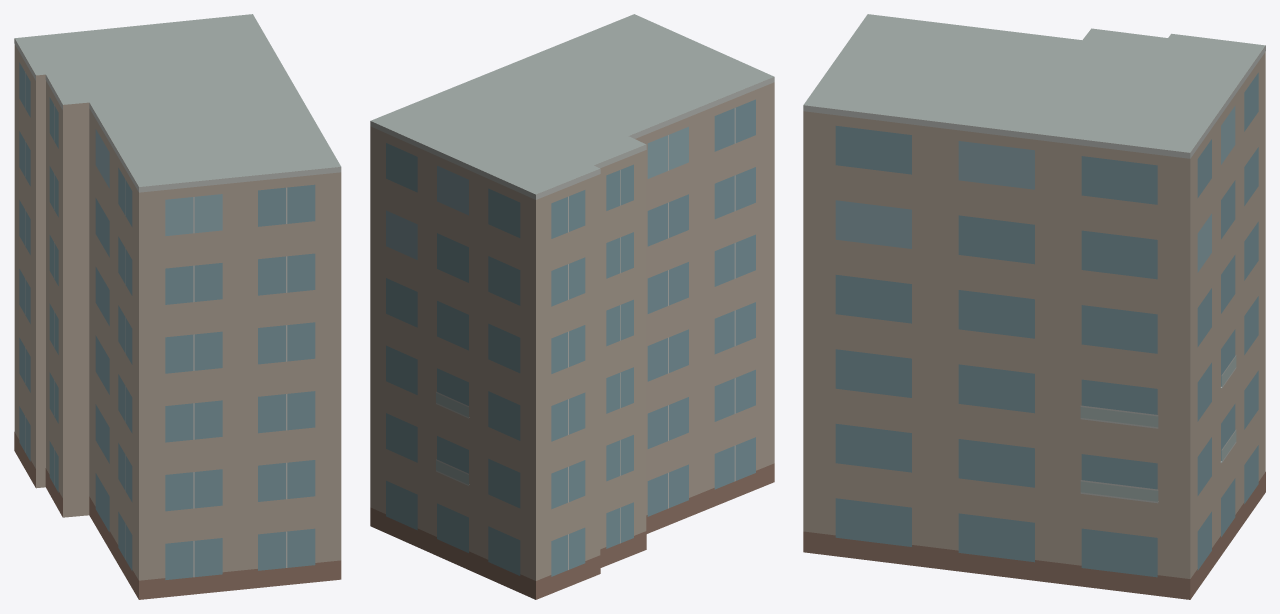
Rendered from survey-upis-33015212.glb.
3 views of the same model, side by side, from view 1: azimuth 30°, elevation 25°; view 2: azimuth 150°, elevation 25°; view 3: azimuth 270°, elevation 25° (orthographic). The views are drawn at different scales.
Visible parts, largest first — view 1: survey-upis-33015212.tmp; view 2: survey-upis-33015212.tmp; view 3: survey-upis-33015212.tmp.
Part boxes in pixels (x1=…): survey-upis-33015212.tmp: x1=14, y1=14, x2=341, y2=599; survey-upis-33015212.tmp: x1=370, y1=14, x2=774, y2=599; survey-upis-33015212.tmp: x1=803, y1=14, x2=1265, y2=599.
Bounding box in the file's own units: 12.2 × 18.3 × 17.17.
